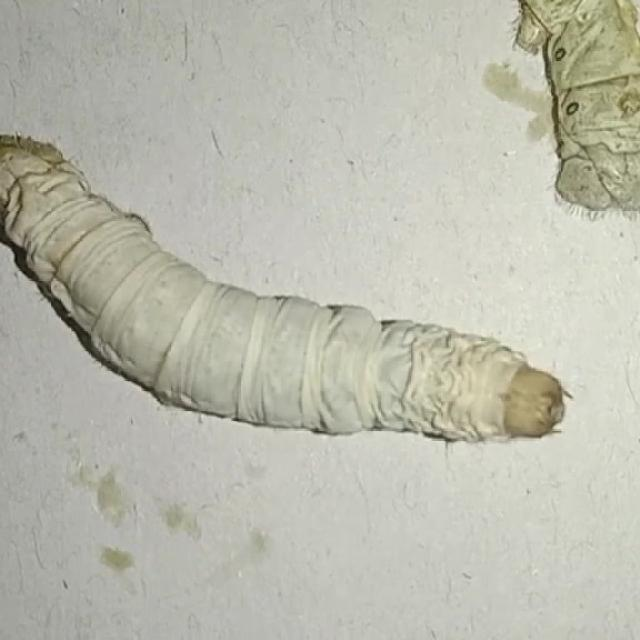Grasserie: (0, 91, 578, 561)
